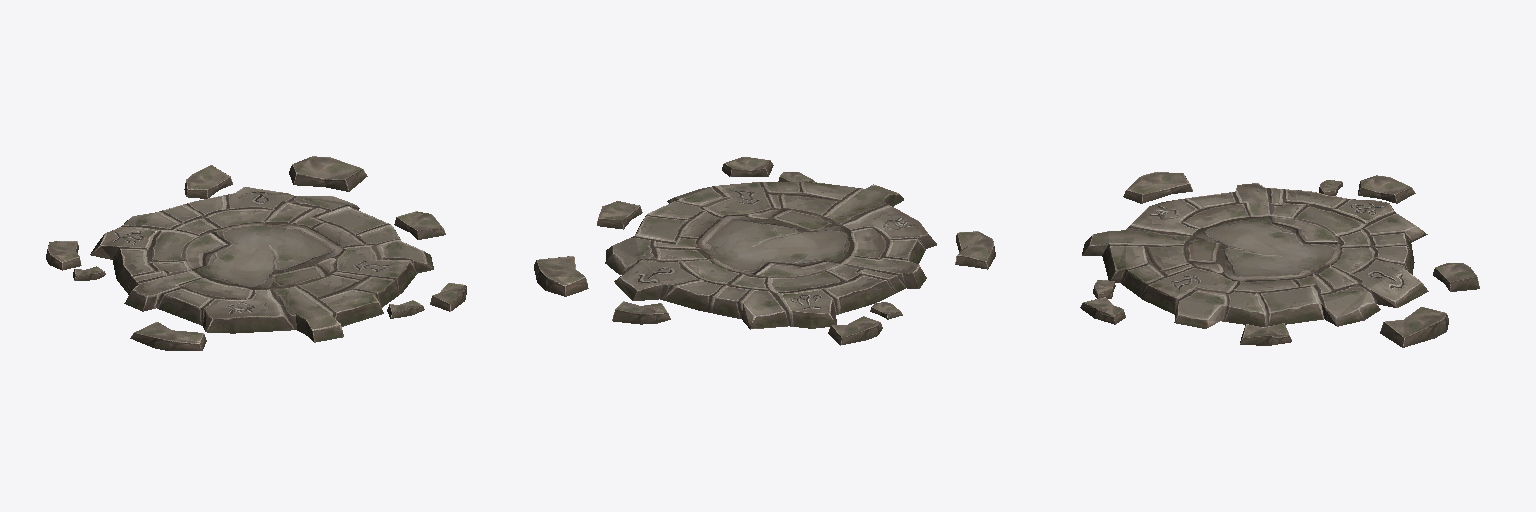
3 views of the same model, side by side, from view 1: azimuth 30°, elevation 25°; view 2: azimuth 150°, elevation 25°; view 3: azimuth 270°, elevation 25° (orthographic).
Parts seen in each view (by area): view 1: world_expansion03_doodads_earthen_earthen_floor_01.m2_Geoset_000; view 2: world_expansion03_doodads_earthen_earthen_floor_01.m2_Geoset_000; view 3: world_expansion03_doodads_earthen_earthen_floor_01.m2_Geoset_000.
Boxes of the visible parts, x1=… form: world_expansion03_doodads_earthen_earthen_floor_01.m2_Geoset_000: x1=46, y1=156, x2=466, y2=350; world_expansion03_doodads_earthen_earthen_floor_01.m2_Geoset_000: x1=534, y1=157, x2=995, y2=345; world_expansion03_doodads_earthen_earthen_floor_01.m2_Geoset_000: x1=1080, y1=172, x2=1479, y2=347.
Bounding box in the file's own units: 7.75 × 0.3237 × 7.77.
1 materials, 1 textured.